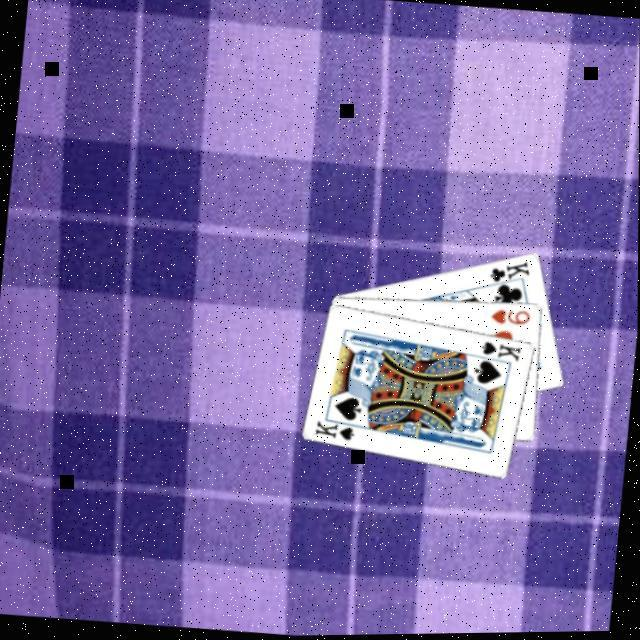9H: (489, 307, 535, 332)
KC: (485, 257, 534, 296)
KS: (313, 415, 364, 447), (478, 338, 526, 367)
